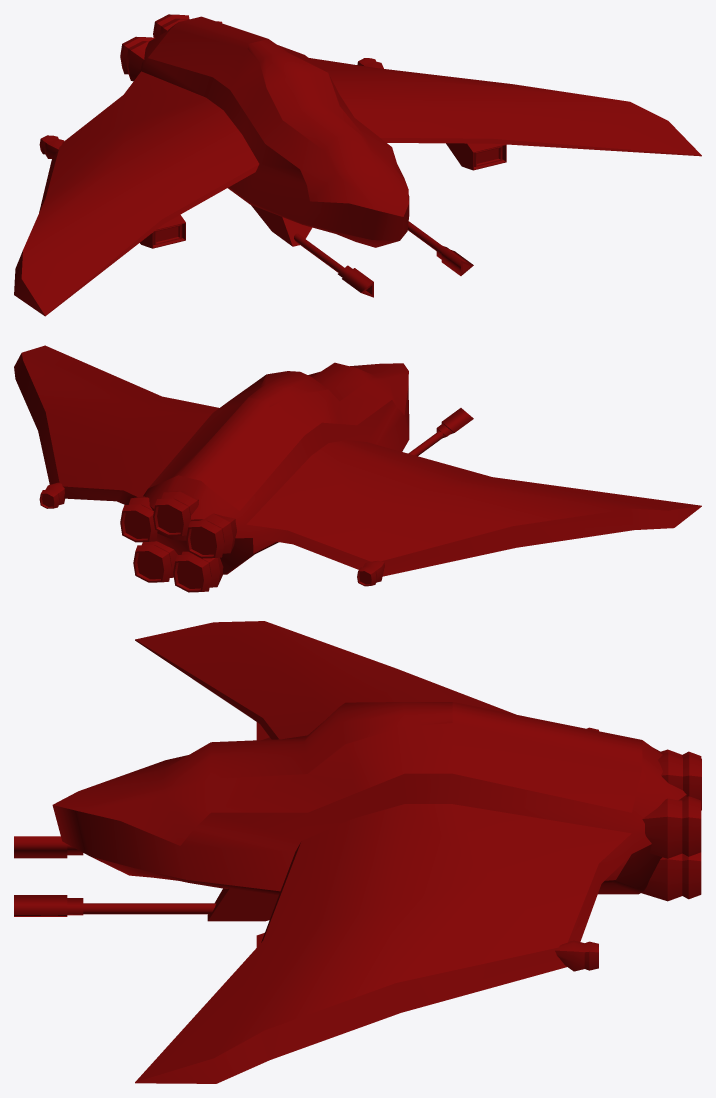
Rendered from Dogfighters.FBX.
The picture shows the model from 3 angles, top to bottom: view 1: azimuth 30°, elevation 25°; view 2: azimuth 150°, elevation 25°; view 3: azimuth 270°, elevation 25°; orthographic projection. The views are drawn at different scales.
Parts seen in each view (by area): view 1: Box001; view 2: Box001; view 3: Box001.
Part boxes in pixels (x1,y1,x2,y2): Box001: (14,14,701,316); Box001: (14,345,701,592); Box001: (14,621,701,1083).
Size of the model in its own units: 288 by 54.36 by 188.
